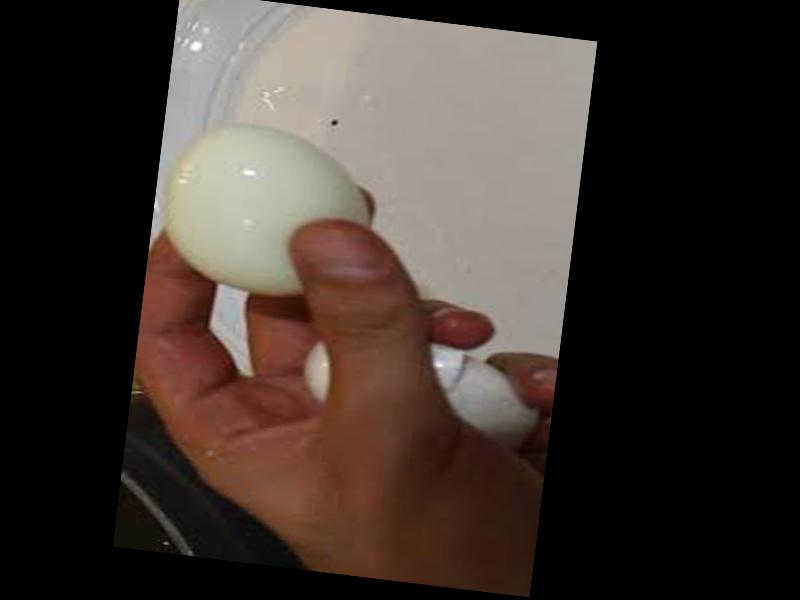Eggs: (148, 119, 381, 306)
